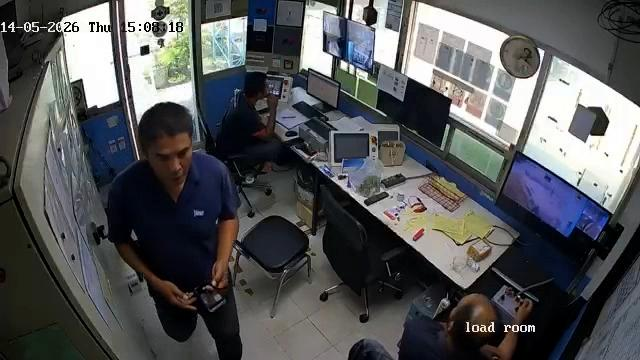Head: (136, 102, 196, 184), (450, 293, 499, 346), (242, 72, 269, 99)
People: (107, 103, 244, 360), (401, 289, 534, 360), (220, 71, 287, 181)
Phone: (191, 280, 226, 312), (256, 107, 269, 115)
